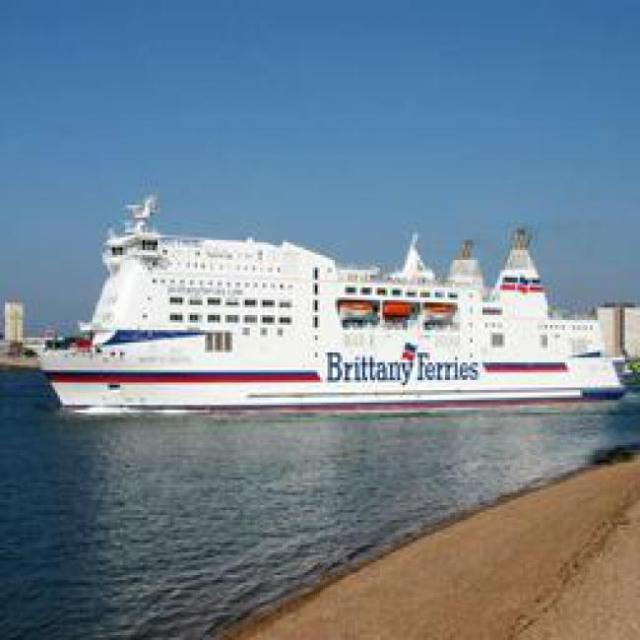boat: (8, 203, 623, 420)
